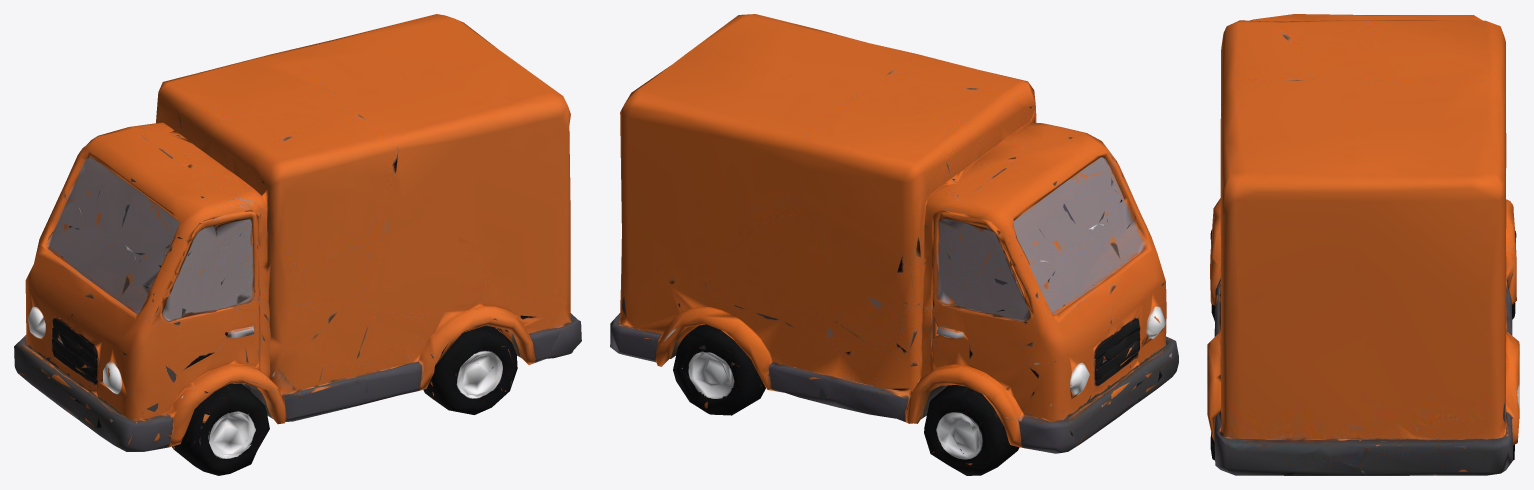
The model's file is van.glb.
3 renders of one model, left to right at view 1: azimuth 30°, elevation 25°; view 2: azimuth 150°, elevation 25°; view 3: azimuth 270°, elevation 25°, orthographic. The views are drawn at different scales.
Size of the model in its own units: 1.9 by 1.17 by 0.9881.
1 material, 1 textured.
